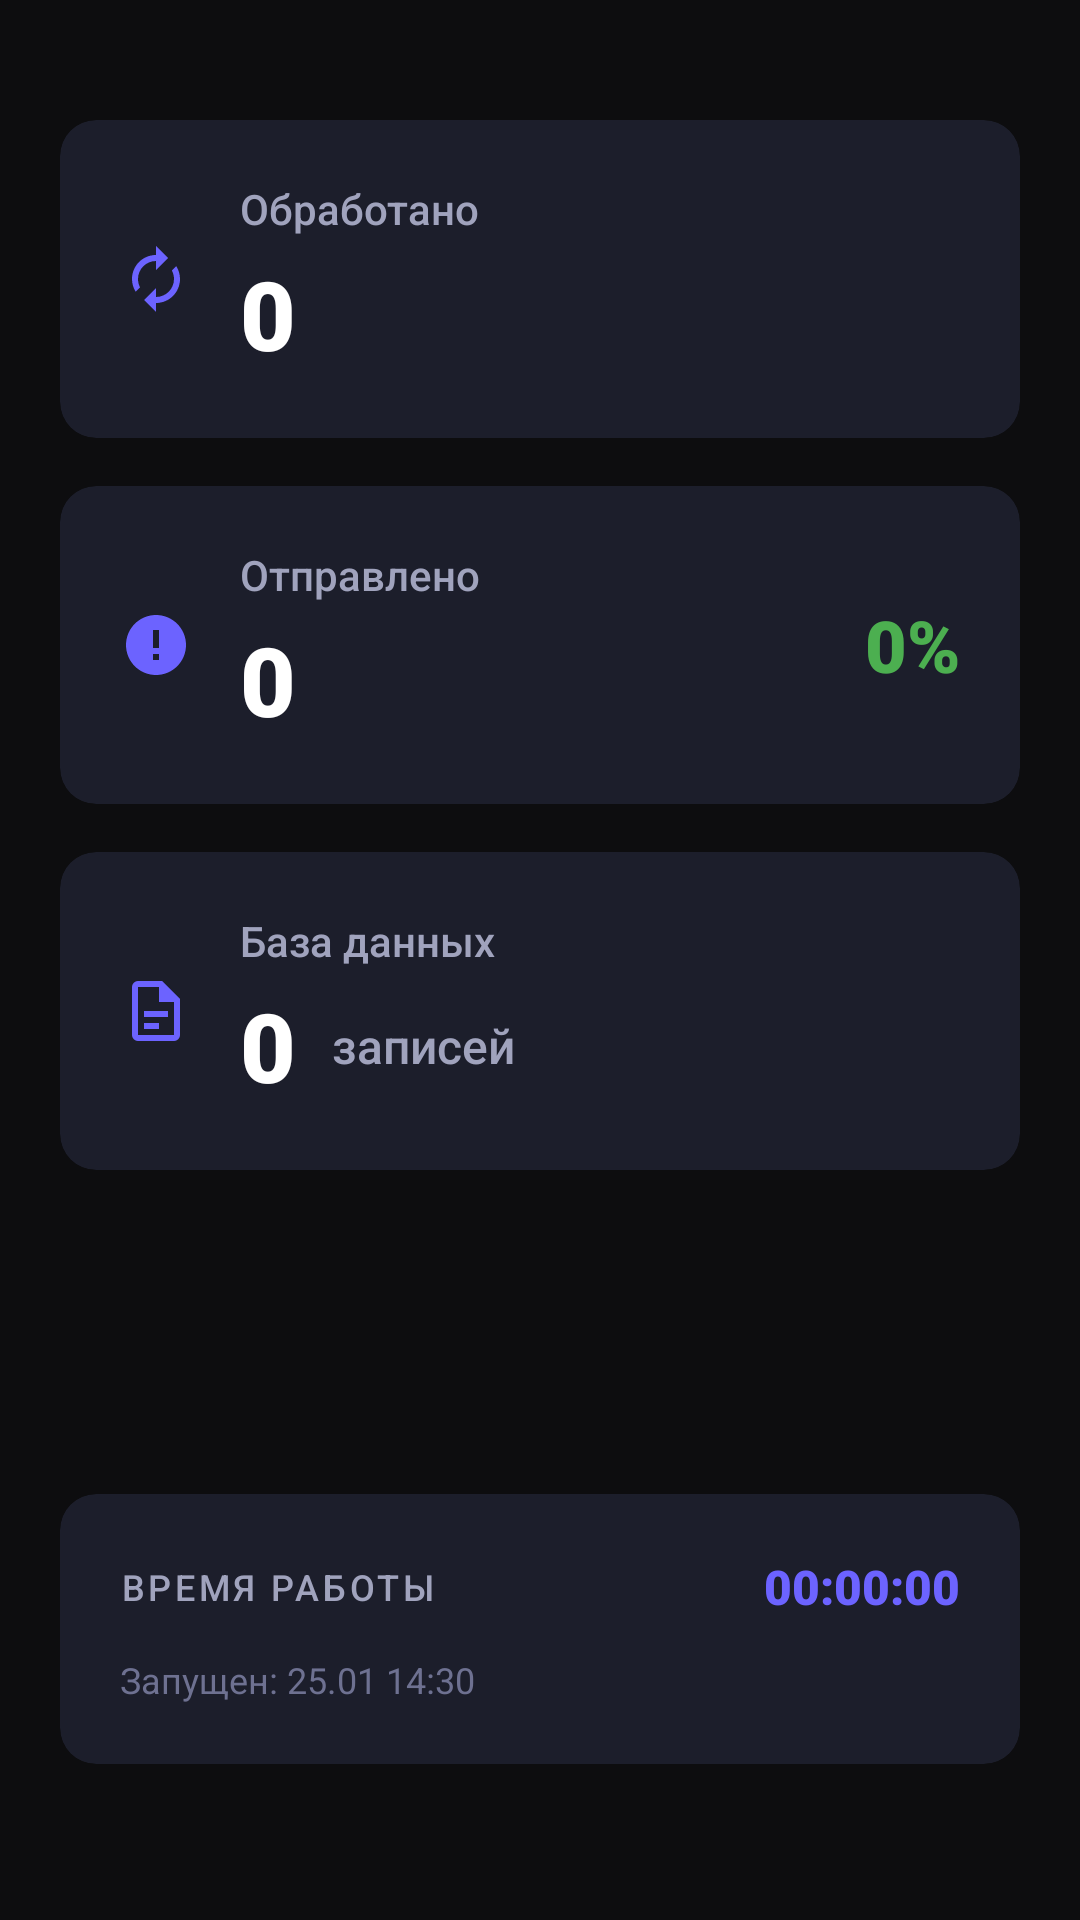

Where icons sit on this 1080 x 1920 app screen, as (x1, y1, x2, y2):
log: (132, 981, 180, 1041)
notification: (126, 615, 186, 675)
reconnect: (132, 246, 180, 312)
